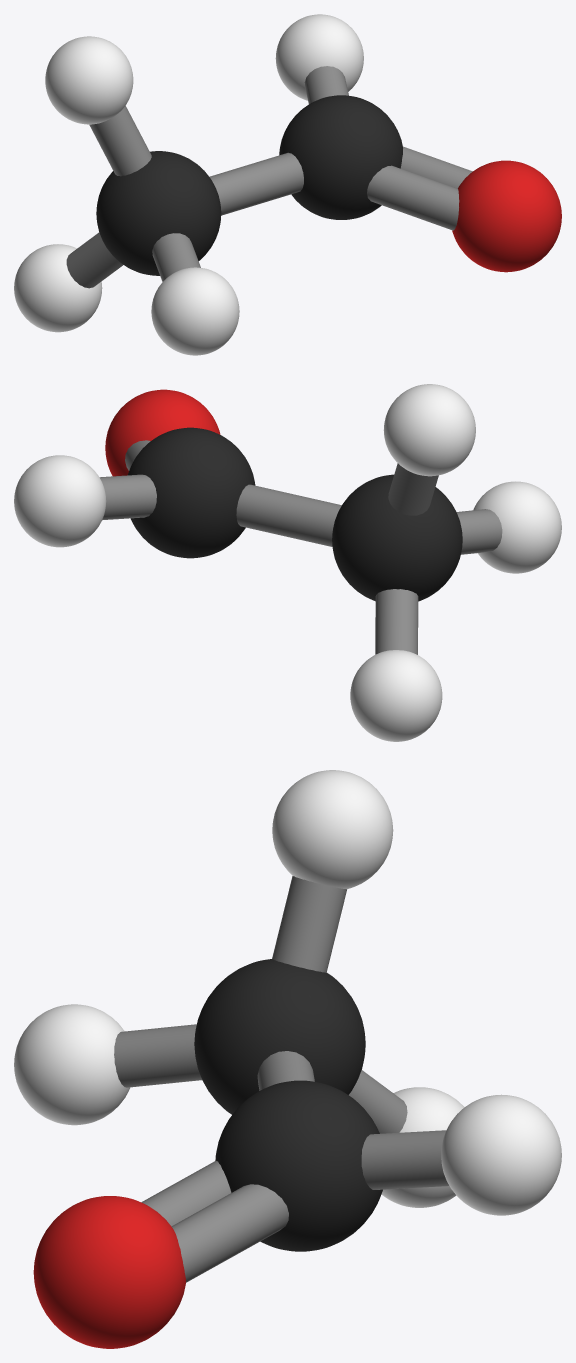
Rendered from ethanal.glb.
3 views of the same model, one above another, from view 1: azimuth 30°, elevation 25°; view 2: azimuth 150°, elevation 25°; view 3: azimuth 270°, elevation 25° (orthographic). The views are drawn at different scales.
Visible parts, largest first — view 1: C_1, C_0, O_2, H_4, H_5, H_3, H_6, B1a, B0, B4, B2, B3 (+2 smaller); view 2: C_1, C_0, H_6, H_5, H_3, H_4, O_2, B0, B2, B5, B4, B3; view 3: C_1, O_2, C_0, H_6, H_5, H_4, B1b, B4, B3, B5, H_3, B1a (+2 smaller).
Part boxes in pixels (x1,y1,x2,y2): C_1: (279,95,402,219); C_0: (96,151,221,275); O_2: (452,160,561,272); H_4: (151,267,239,355); H_5: (45,36,133,124); H_3: (14,244,102,332); H_6: (275,14,363,100); B1a: (367,165,459,230); B0: (209,152,303,215); B4: (89,106,151,176); B2: (66,232,123,288); B3: (152,233,200,281); C_1: (128,427,255,558); C_0: (332,474,462,601); H_6: (14,455,106,547); H_5: (383,384,475,476); H_3: (350,650,442,741); H_4: (473,481,561,573); O_2: (105,389,220,476); B0: (236,484,341,546); B2: (375,589,418,654); B5: (99,474,156,520); B4: (388,463,438,515); B3: (456,509,502,554); C_1: (215,1080,382,1251); O_2: (33,1196,185,1348); C_0: (194,959,365,1114); H_6: (441,1094,561,1215); H_5: (272,770,393,889); H_4: (14,1004,130,1125); B1b: (171,1184,288,1282); B4: (272,876,346,972); B3: (114,1024,202,1087); B5: (361,1130,449,1189); H_3: (381,1087,464,1207); B1a: (141,1161,231,1226).
Bounding box in the file's own units: 3.32 × 2.33 × 2.72.
